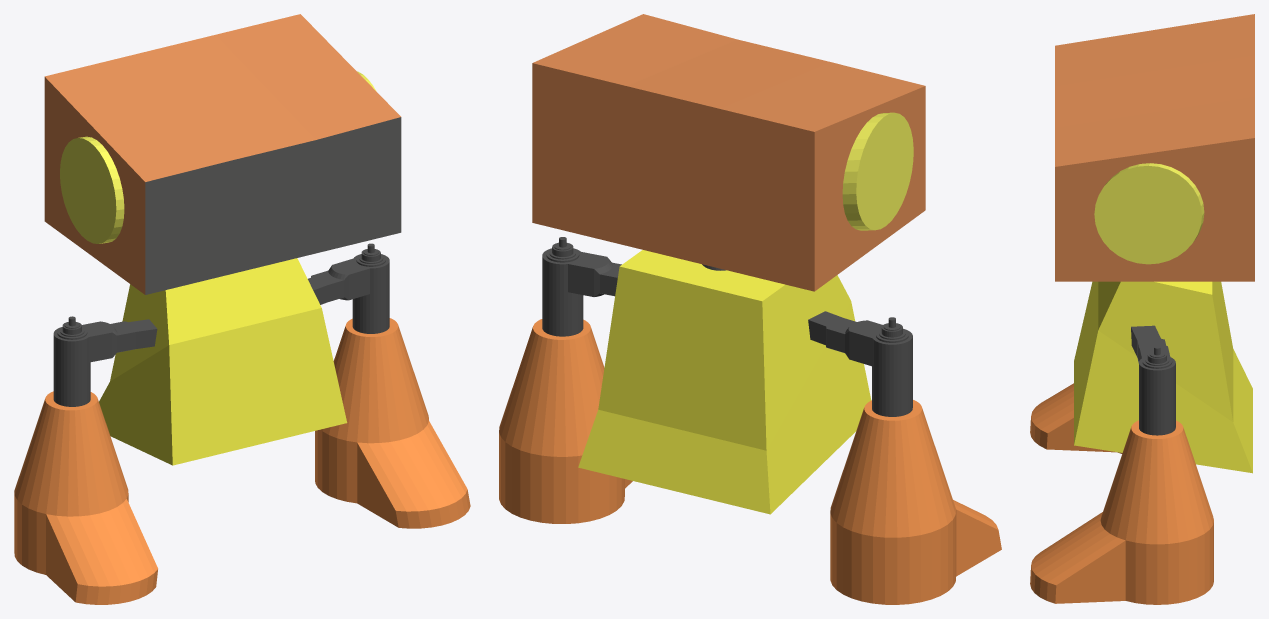
The model's file is Robotito.fbx.
3 renders of one model, left to right at view 1: azimuth 30°, elevation 25°; view 2: azimuth 150°, elevation 25°; view 3: azimuth 270°, elevation 25°, orthographic. The views are drawn at different scales.
Visible parts, largest first — view 1: Cabeza, Extremidades, Cuerpo; view 2: Cabeza, Extremidades, Cuerpo; view 3: Cabeza, Extremidades, Cuerpo.
Boxes of the visible parts, left/top/right/bottom form: Cabeza: left=44, top=14, right=401, bottom=294; Extremidades: left=14, top=71, right=470, bottom=604; Cuerpo: left=99, top=258, right=347, bottom=465; Cabeza: left=532, top=14, right=925, bottom=291; Extremidades: left=499, top=112, right=1001, bottom=604; Cuerpo: left=578, top=250, right=871, bottom=514; Cabeza: left=1055, top=14, right=1254, bottom=281; Extremidades: left=1030, top=163, right=1213, bottom=604; Cuerpo: left=1074, top=281, right=1252, bottom=473.
Size of the model in its own units: 190 by 198 by 93.37.
